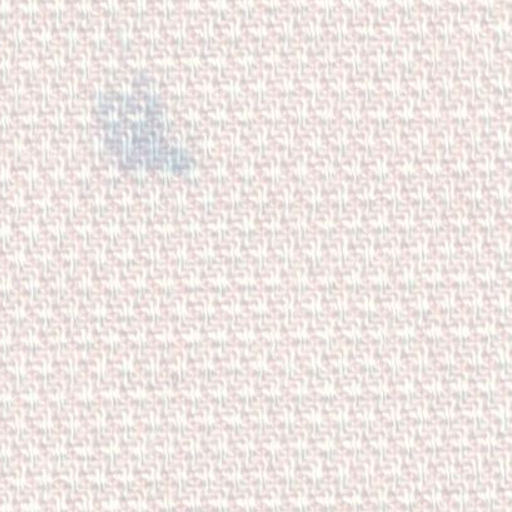WuZi: (76, 68, 209, 194)
